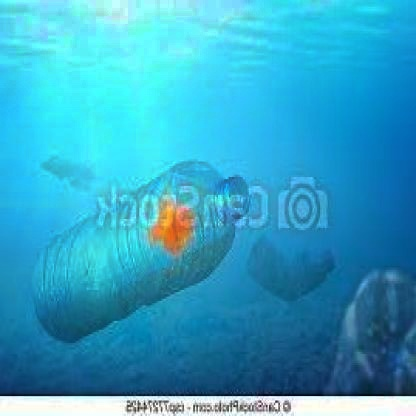pbottle: (26, 153, 252, 345)
